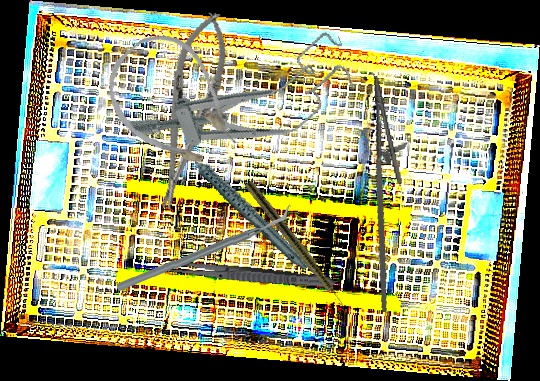Cannula: (89, 18, 257, 191)
Chopper: (117, 201, 291, 296)
Dressing Forceps: (164, 259, 337, 291)
Handpiece: (180, 121, 310, 291), (242, 179, 354, 317)
Needle Holder: (344, 72, 434, 313), (141, 7, 238, 214)
Speculum: (121, 28, 365, 184)
